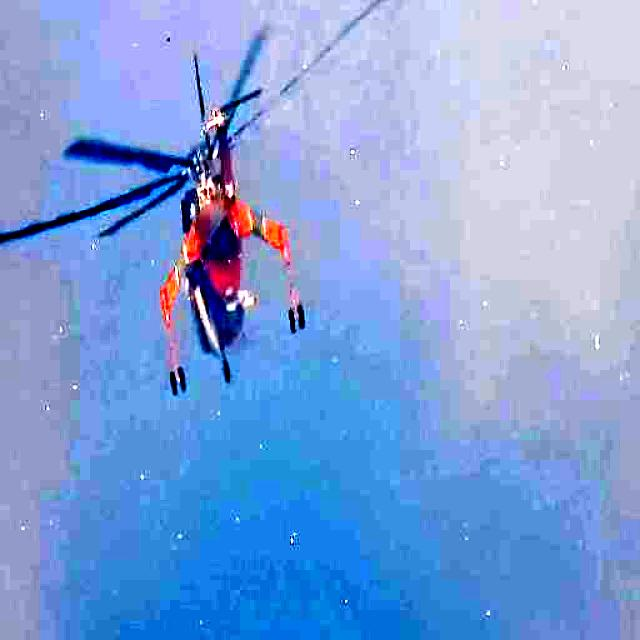drone: (0, 0, 401, 401)
